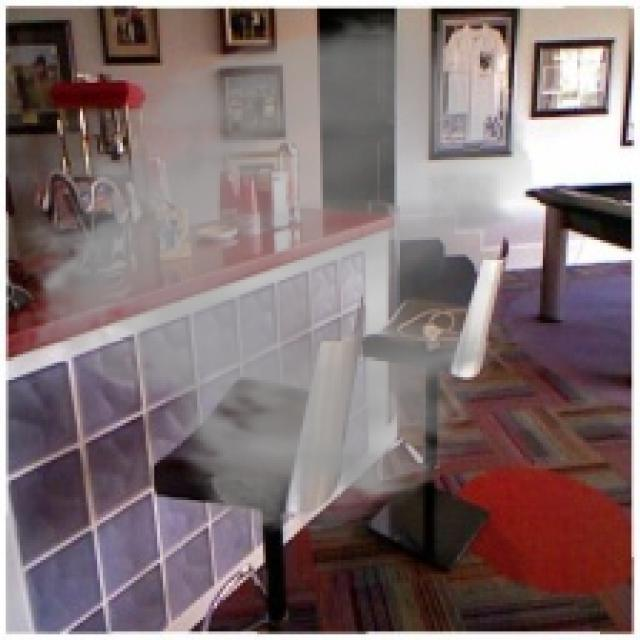Smoke: (2, 9, 538, 538)
